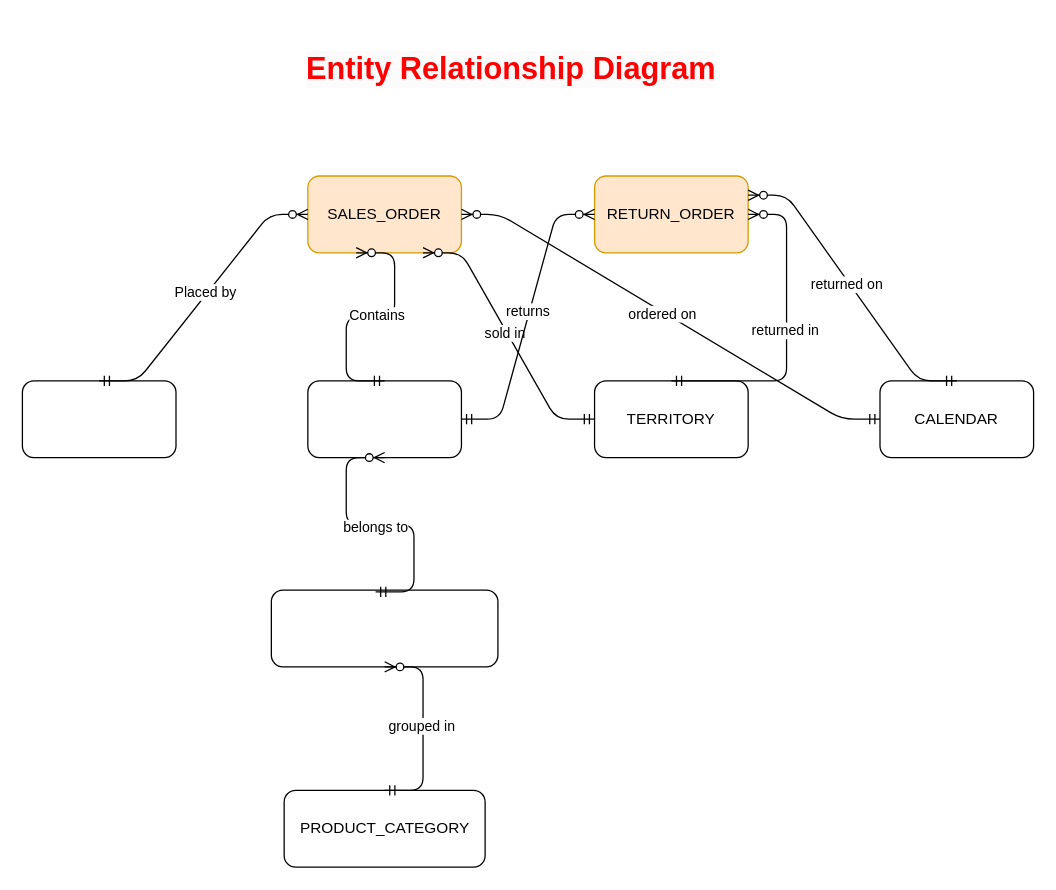
Image size: 1056x890. Some labels were removed from this diagram. The centre of each missing label's shape, as x and y in pixels:
CUSTOMER: point 98,419
PRODUCT: point 384,419
PRODUCT_SUBCATEGORY: point 384,628
